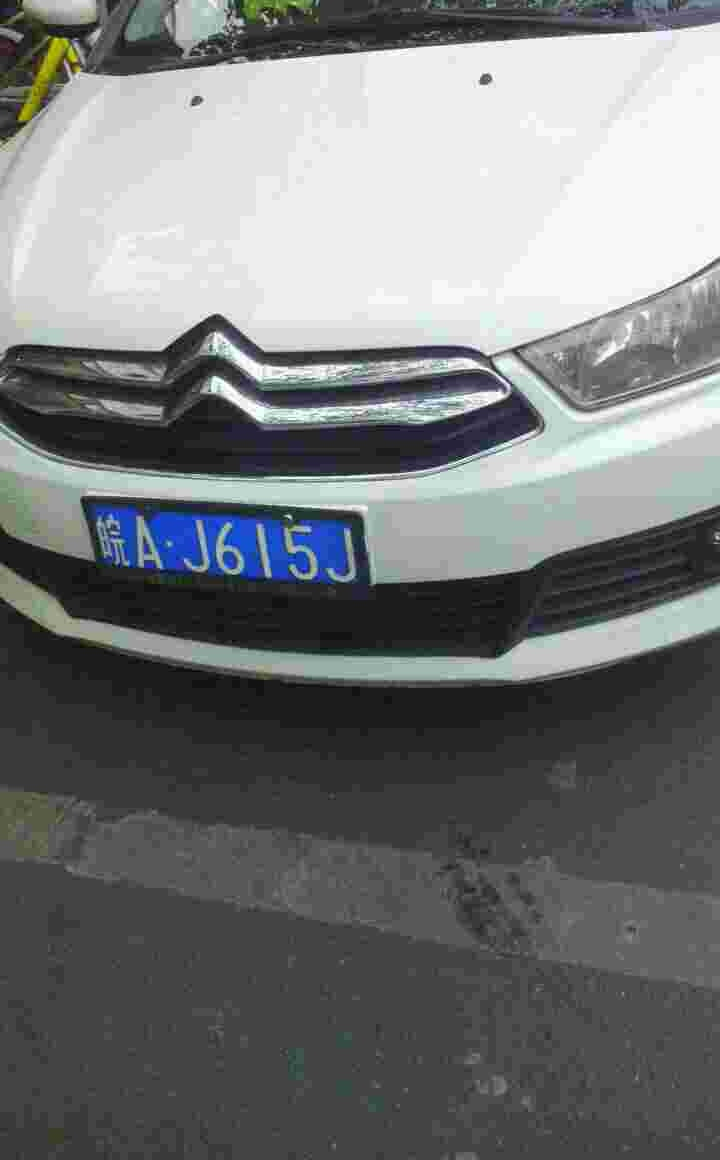plate: (95, 493, 361, 602)
